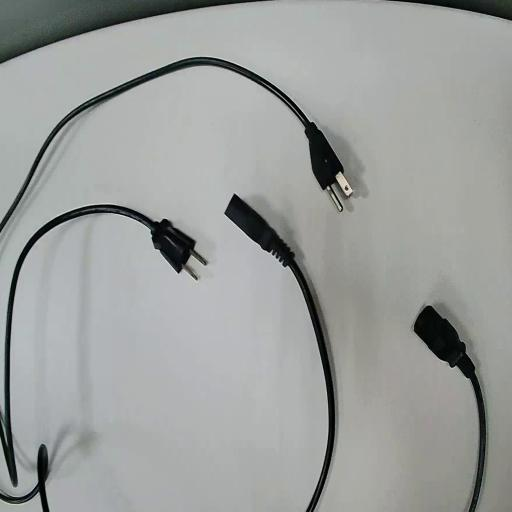wire: (0, 59, 342, 229), (0, 206, 196, 483), (226, 196, 334, 511), (414, 306, 485, 511)
